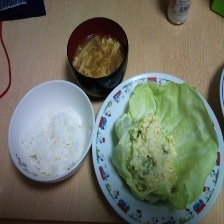rice: (12, 95, 88, 176)
